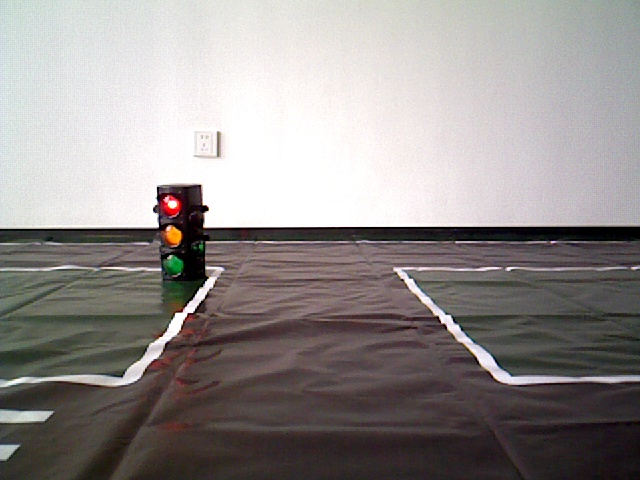red: (159, 183, 204, 277)
